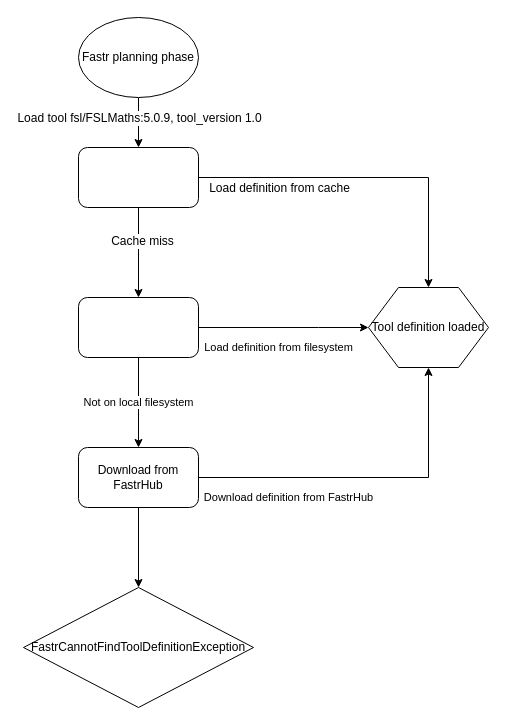
Some shapes in this 506 by 725 pixel diagram are drawn without their labels. Each missing label, with the centre of its shape:
"Load from local cache" belongs at [138,177].
"Load from local filesystem" belongs at [138,327].
